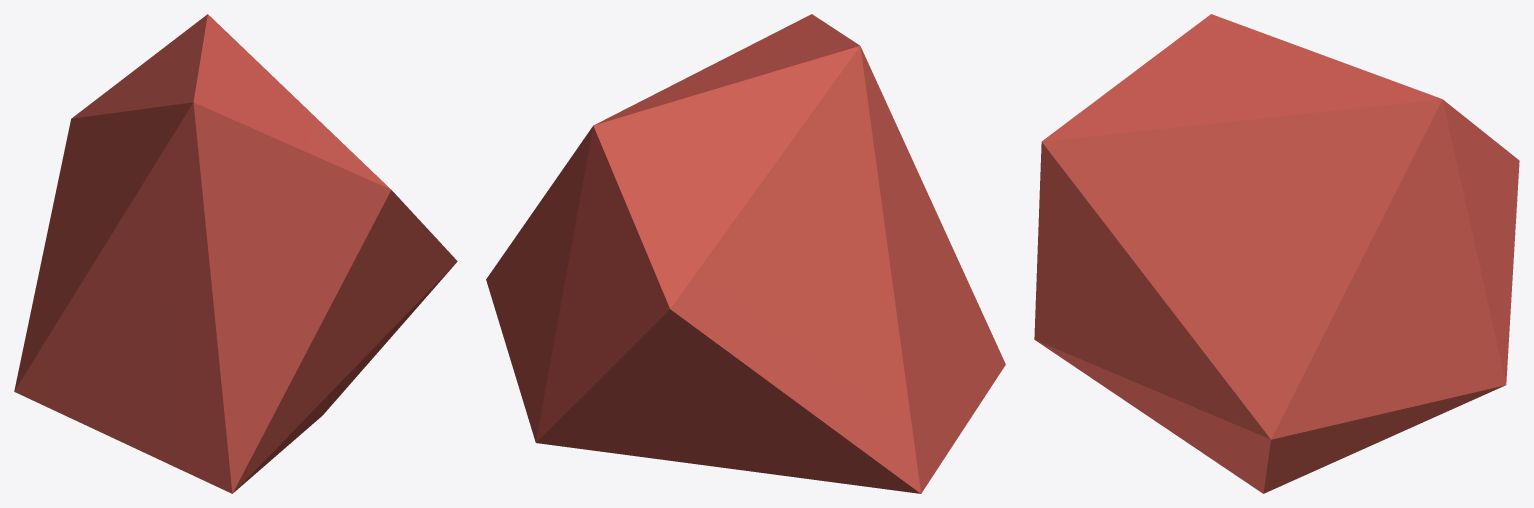
File: littleredrock3.fbx
3 views of the same model, side by side, from view 1: azimuth 30°, elevation 25°; view 2: azimuth 150°, elevation 25°; view 3: azimuth 270°, elevation 25° (orthographic). The views are drawn at different scales.
Parts seen in each view (by area): view 1: rock.010; view 2: rock.010; view 3: rock.010.
Boxes of the visible parts, bbox=[...] form: rock.010: bbox=[14, 14, 457, 493]; rock.010: bbox=[486, 14, 1005, 493]; rock.010: bbox=[1034, 14, 1519, 493].
Bounding box in the file's own units: 50.23 × 43.37 × 47.8.
